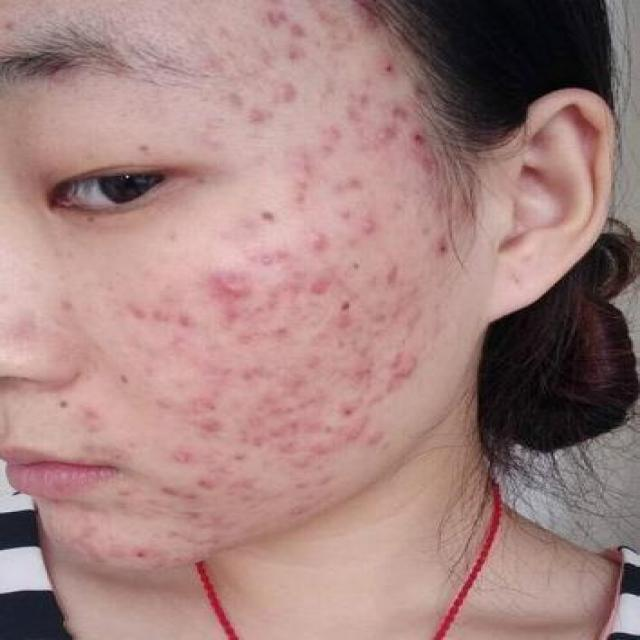Acne: (292, 80, 446, 232), (169, 370, 316, 464), (314, 284, 436, 381), (202, 243, 328, 313), (134, 302, 243, 373), (151, 464, 254, 536), (368, 54, 439, 154), (314, 386, 389, 454), (60, 510, 136, 567), (217, 21, 260, 114), (274, 452, 334, 518), (268, 4, 320, 72), (249, 316, 311, 368), (282, 225, 369, 262), (370, 247, 416, 296), (246, 80, 296, 120), (432, 238, 474, 278), (74, 401, 110, 443), (382, 354, 428, 382), (133, 542, 169, 576), (256, 198, 296, 222)
